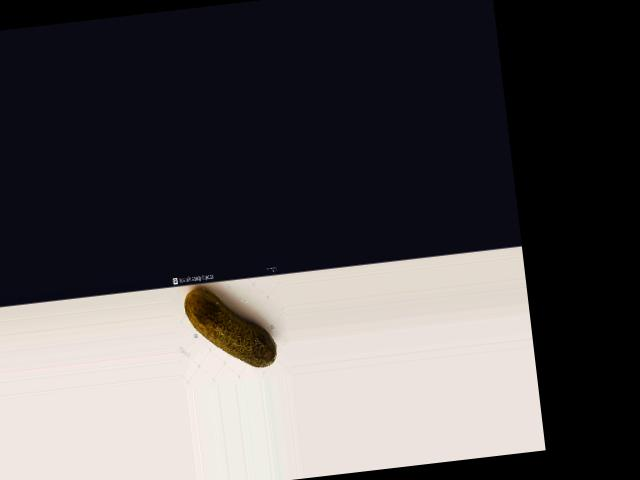cucumber: (182, 280, 278, 374)
